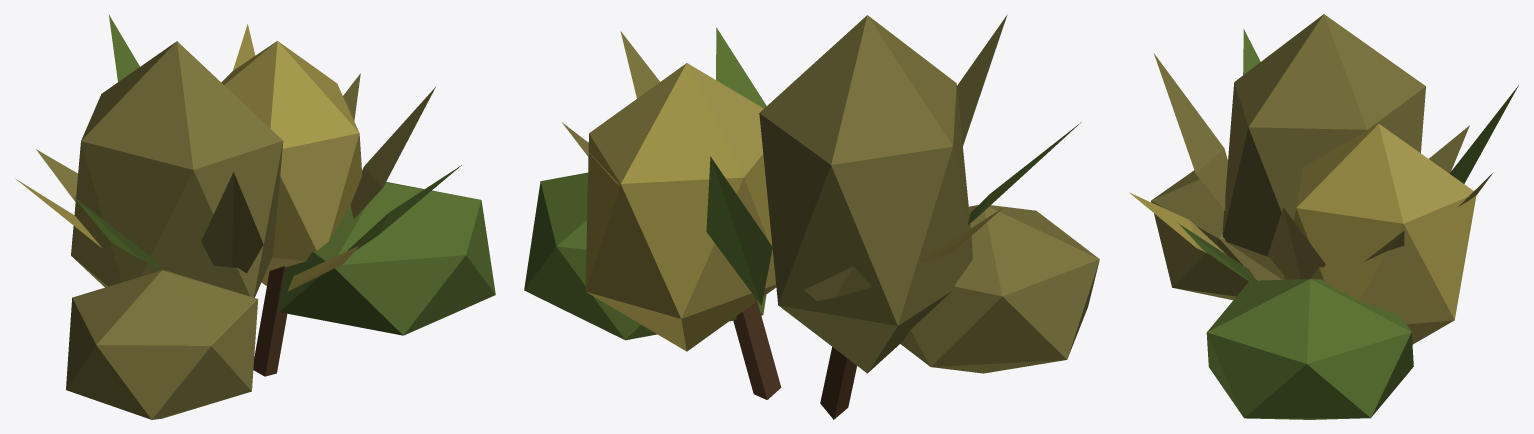
The model's file is E3_brush_b.glb.
3 views of the same model, side by side, from view 1: azimuth 30°, elevation 25°; view 2: azimuth 150°, elevation 25°; view 3: azimuth 270°, elevation 25° (orthographic). The views are drawn at different scales.
Visible parts, largest first — view 1: E3_brush_b; view 2: E3_brush_b; view 3: E3_brush_b.
Part boxes in pixels (bbox=[...]): E3_brush_b: bbox=[15, 14, 495, 419]; E3_brush_b: bbox=[524, 14, 1099, 419]; E3_brush_b: bbox=[1129, 14, 1518, 419].
Bounding box in the file's own units: 1.04 × 0.8 × 0.8371.
